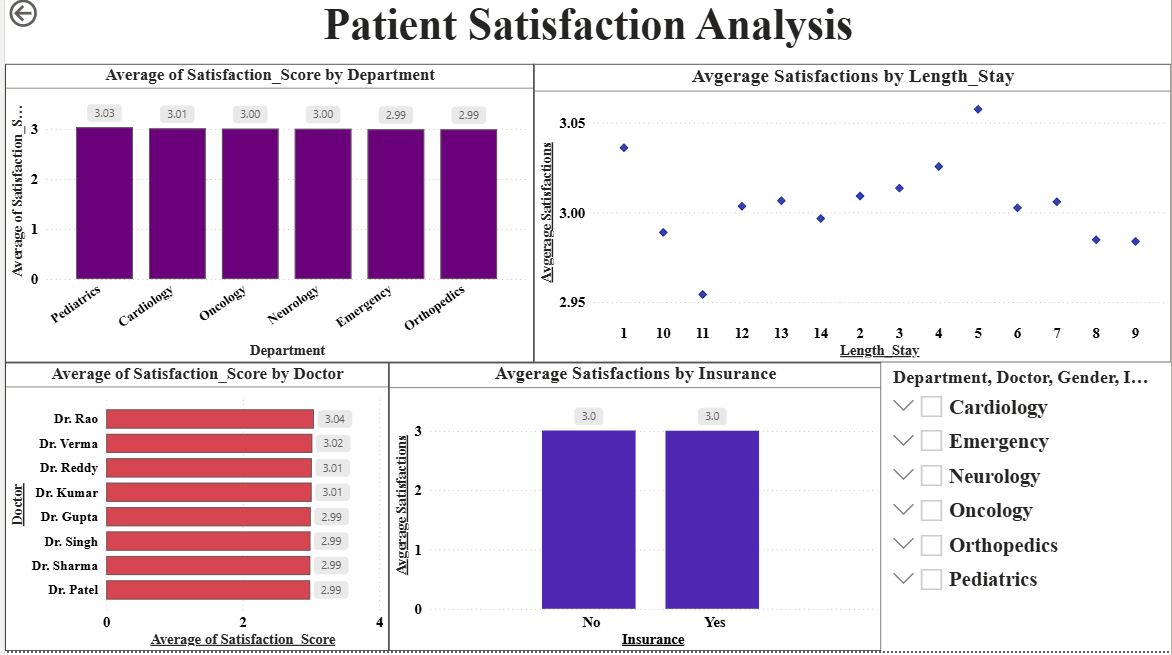

What the dashboard file says about the page in this screenshot:
{"tool":"powerbi","page":{"name":"Patient Satisfaction Analysis","canvas":[1280,720],"ordinal":1},"visuals":[{"type":"columnChart","fields":{"Category":["Hospital_Patient_Dataset_50000.Department"],"Y":["Avg(Hospital_Patient_Dataset_50000.Satisfaction_Score)"]},"box":[0,75.5,580.4,328],"z":0},{"type":"barChart","fields":{"Category":["Hospital_Patient_Dataset_50000.Doctor"],"Y":["Avg(Hospital_Patient_Dataset_50000.Satisfaction_Score)"]},"box":[0,403.4,421.3,317],"z":1000},{"type":"scatterChart","fields":{"Y":["Hospital_Patient_Dataset_50000.Avgerage Satisfactions"],"X":["Hospital_Patient_Dataset_50000.Length_Stay"]},"box":[580.4,75.5,699.8,328],"z":2000},{"type":"columnChart","fields":{"Category":["Hospital_Patient_Dataset_50000.Insurance"],"Y":["Hospital_Patient_Dataset_50000.Avgerage Satisfactions"]},"box":[421.3,403.4,540.7,317],"z":3000},{"type":"slicer","fields":{"Values":["Hospital_Patient_Dataset_50000.Department","Hospital_Patient_Dataset_50000.Doctor","Hospital_Patient_Dataset_50000.Gender","Hospital_Patient_Dataset_50000.Insurance"]},"box":[961.9,403.4,318.4,317],"z":4000},{"type":"textbox","box":[0,0,1280.3,75.5],"z":5000},{"type":"actionButton","box":[0,0,100,40],"z":6000}]}

Visuals, with their boxes in screenshot pixels (x1, y1, x2, y2), scaled from the page's 1280x720 canvas onto the 1172x655 screenshot:
columnChart - Hospital_Patient_Dataset_50000.Department x Avg(Hospital_Patient_Dataset_50000.Satisfaction_Score): bbox(0, 69, 531, 367)
barChart - Hospital_Patient_Dataset_50000.Doctor x Avg(Hospital_Patient_Dataset_50000.Satisfaction_Score): bbox(0, 367, 386, 654)
scatterChart - Hospital_Patient_Dataset_50000.Avgerage Satisfactions x Hospital_Patient_Dataset_50000.Length_Stay: bbox(531, 69, 1171, 367)
columnChart - Hospital_Patient_Dataset_50000.Insurance x Hospital_Patient_Dataset_50000.Avgerage Satisfactions: bbox(386, 367, 881, 654)
slicer - Hospital_Patient_Dataset_50000.Department x Hospital_Patient_Dataset_50000.Doctor: bbox(881, 367, 1171, 654)
textbox: bbox(0, 0, 1171, 69)
actionButton: bbox(0, 0, 92, 36)
